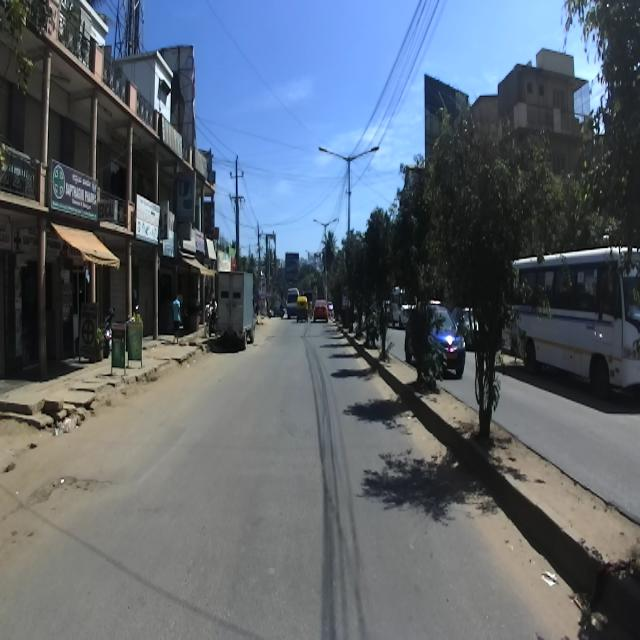truck ahead at: (213, 271, 257, 350)
